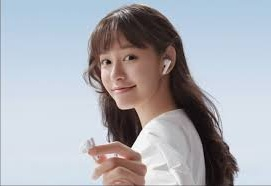earphone: (159, 46, 177, 76)
